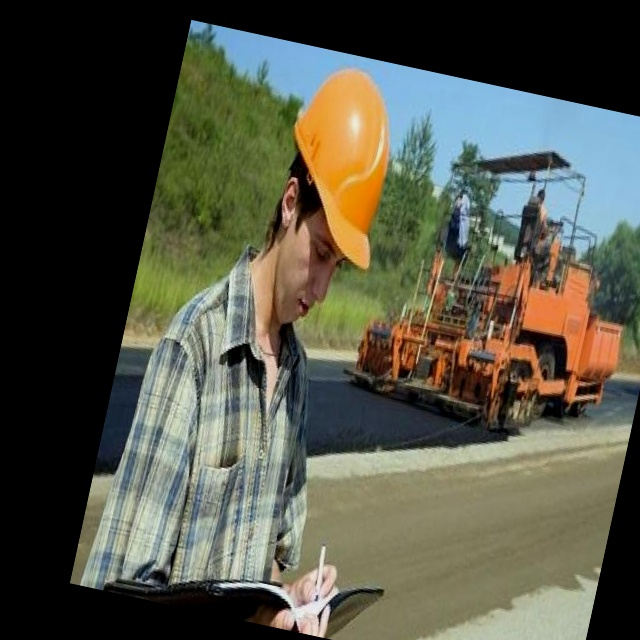Con_Casco: (254, 54, 411, 290)
Sin_Chaleco: (100, 286, 324, 619)
